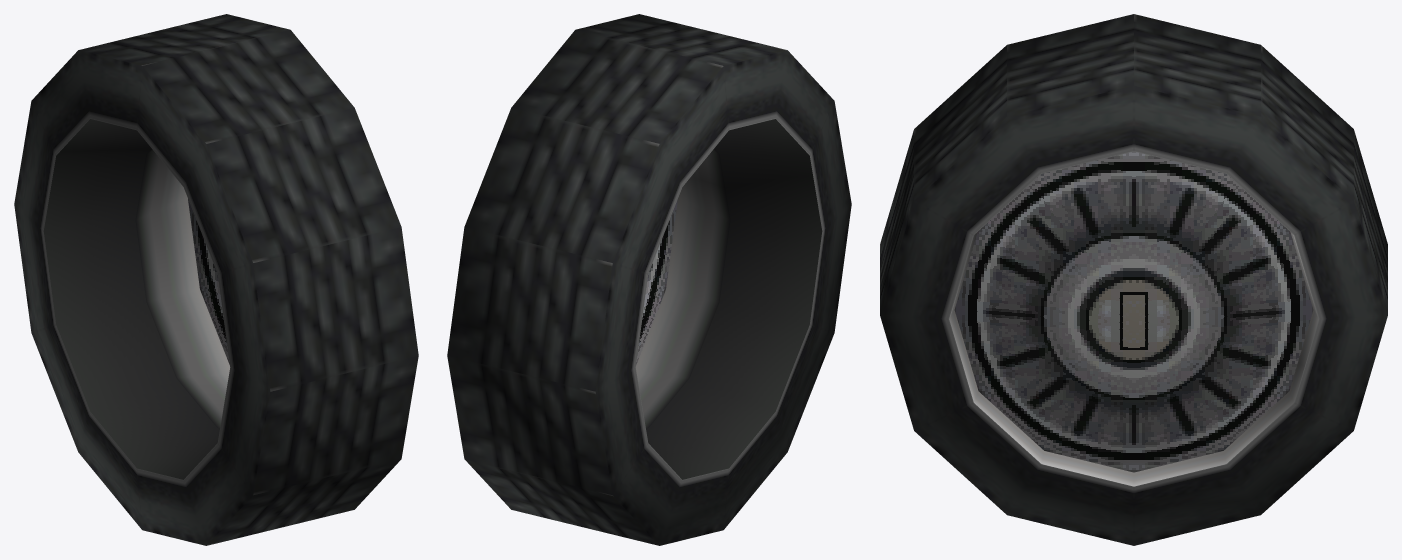
The model's file is DefaultWheel_bravura.glb.
3 renders of one model, left to right at view 1: azimuth 30°, elevation 25°; view 2: azimuth 150°, elevation 25°; view 3: azimuth 270°, elevation 25°, orthographic.
Parts seen in each view (by area): view 1: wheel; view 2: wheel; view 3: wheel.
Boxes of the visible parts, x1,y1,x2,y2 form: wheel: (14,14,418,545); wheel: (447,14,851,545); wheel: (880,14,1387,545).
Bounding box in the file's own units: 0.2832 × 0.741 × 0.741.
Materials: 3 (3 with a texture image).
